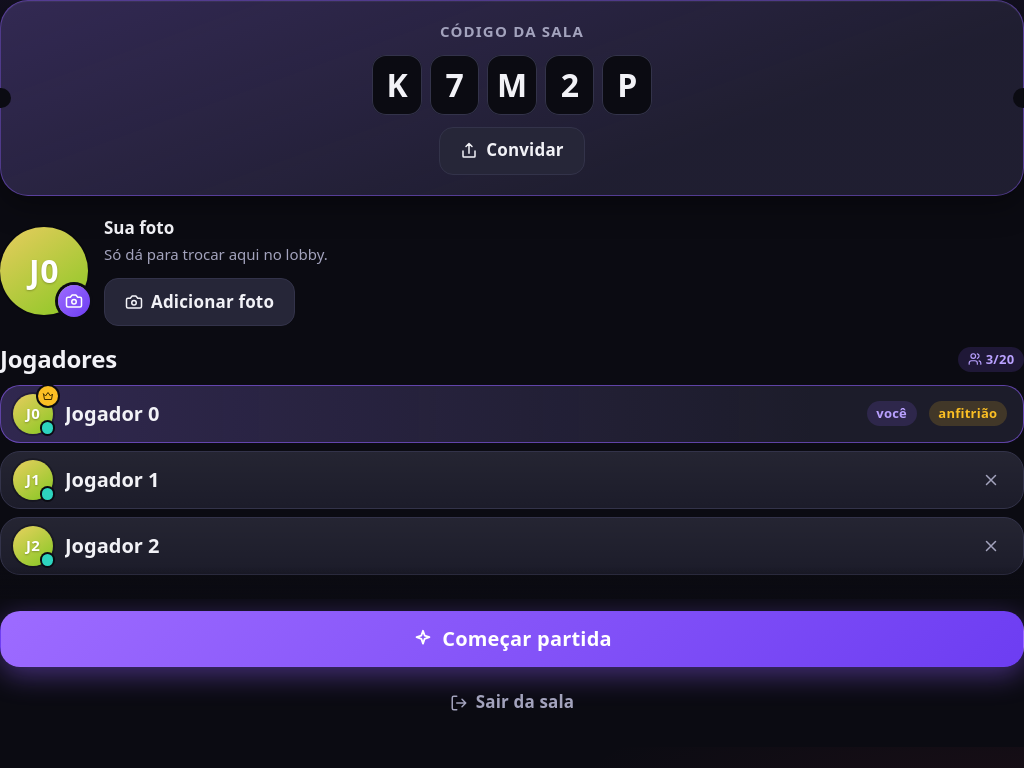
Scenario: Lobby: leaving and removing › hides who left and lets the host remove someone after confirming
Later steps or results of the test are not shown.
expect the text "3/20" is shown: met, box [958,347,1023,372]
Click the button named "Remover Jogador 1" at (991, 480), box [967,456,1015,504]
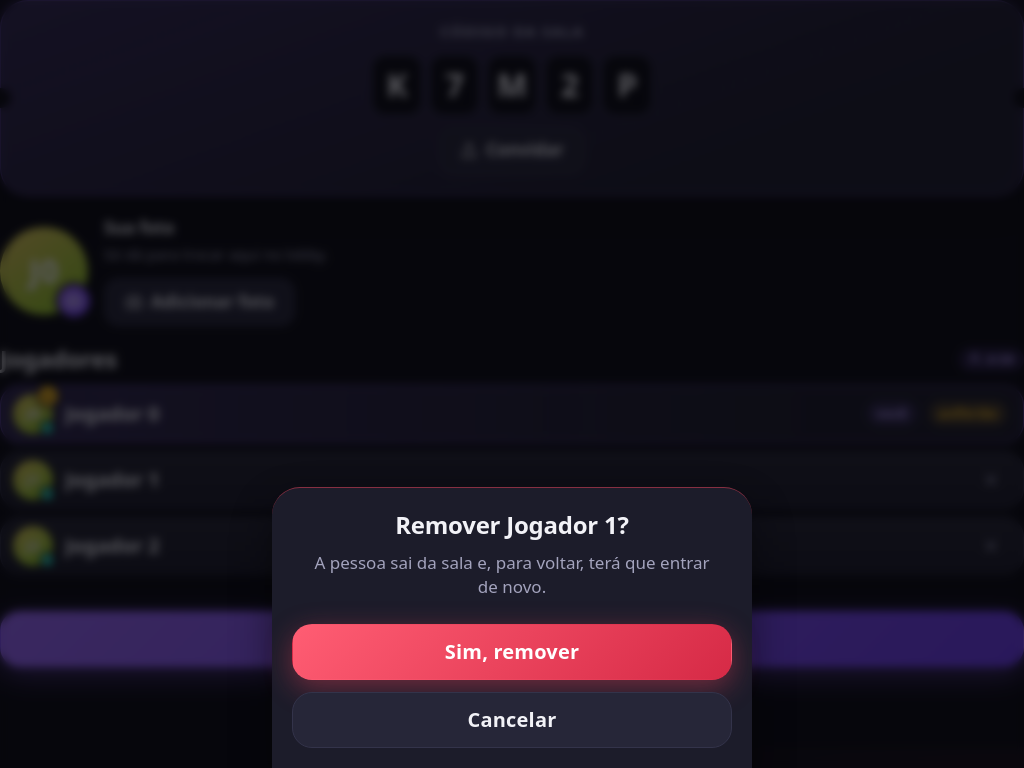
expect the dialog "Remover Jogador 1?" is shown: met, box [272,487,752,767]
